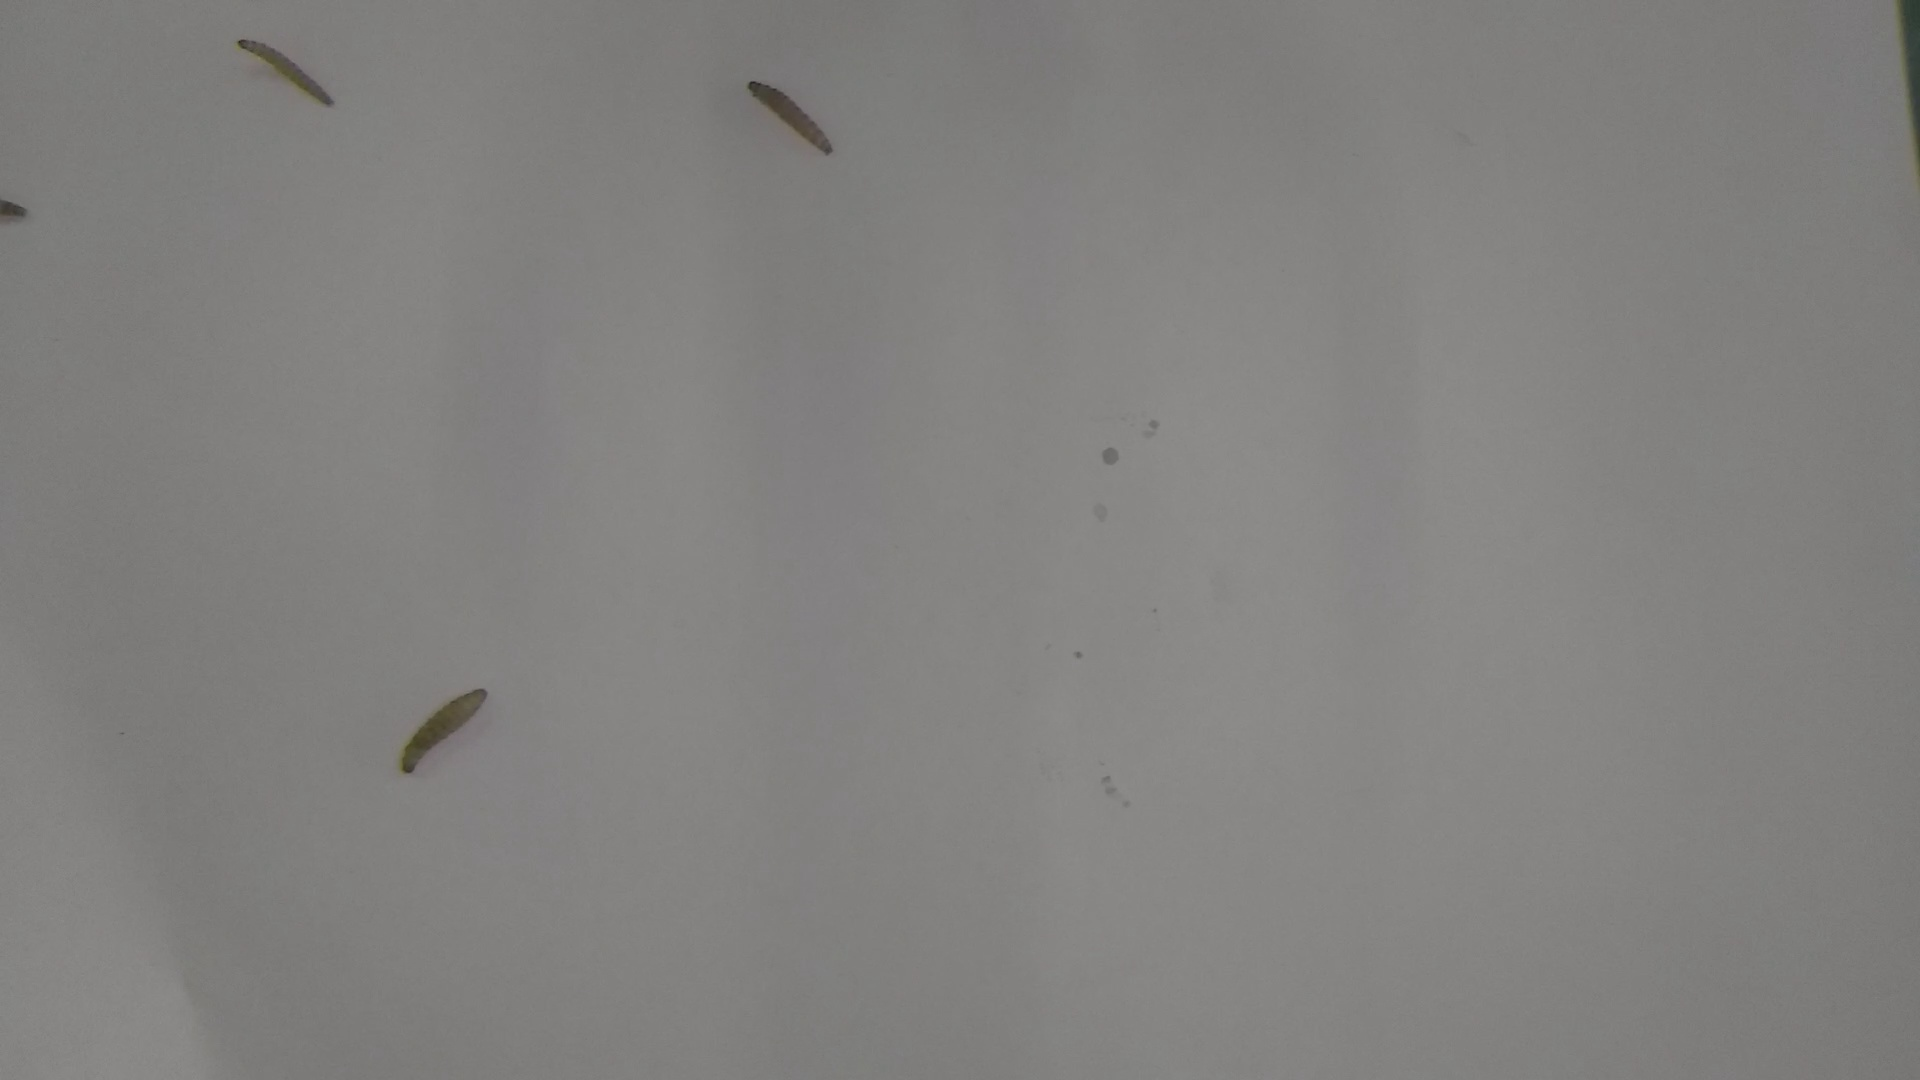efsb: (396, 679, 501, 781), (735, 74, 843, 164), (227, 32, 342, 116)
